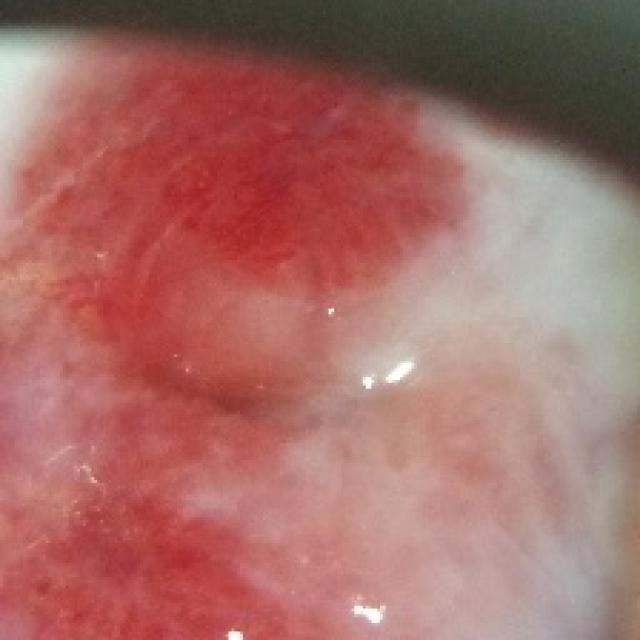type-2: (0, 31, 574, 639)
